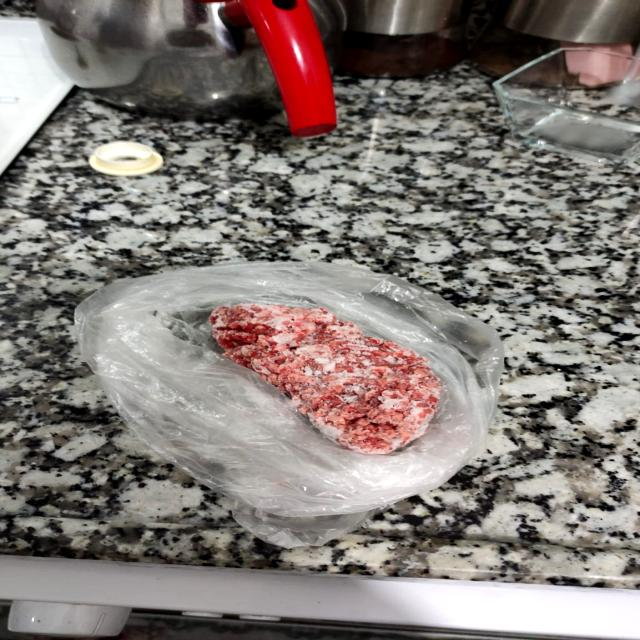ground meat: (176, 286, 468, 462)
